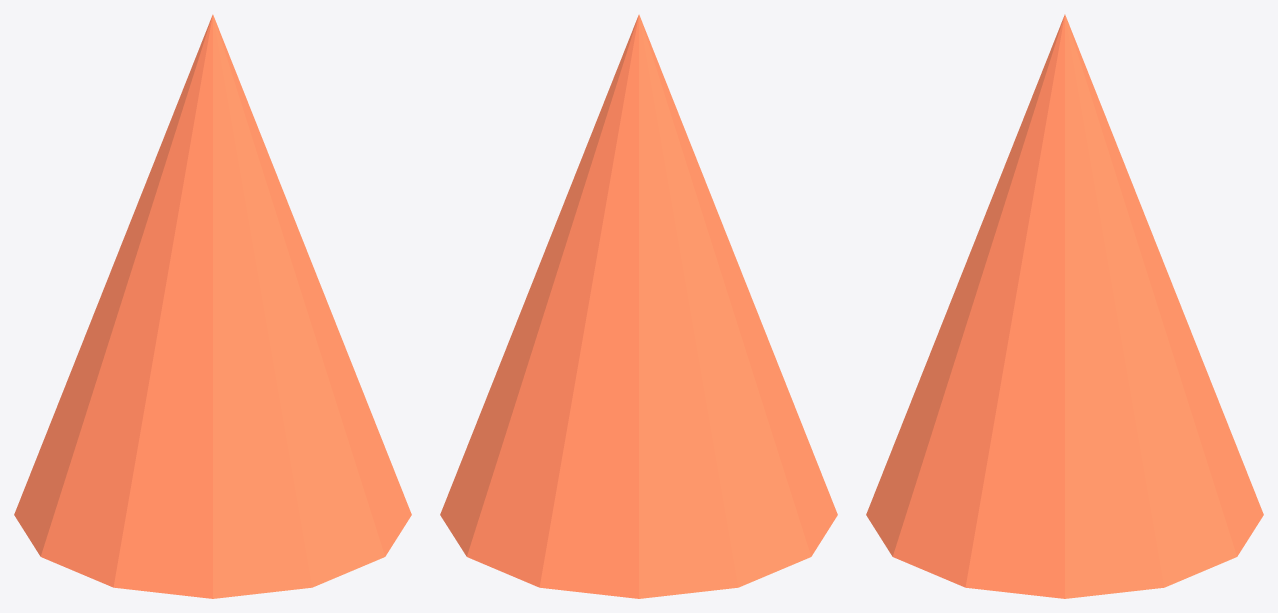
Rendered from s3_feedback_arrow.glb.
3 renders of one model, left to right at view 1: azimuth 30°, elevation 25°; view 2: azimuth 150°, elevation 25°; view 3: azimuth 270°, elevation 25°, orthographic.
Visible parts, largest first — view 1: arrowhead; view 2: arrowhead; view 3: arrowhead.
Part boxes in pixels (<box>): arrowhead: <box>14,14,411,598</box>; arrowhead: <box>440,14,837,598</box>; arrowhead: <box>866,14,1263,598</box>.
Bounding box in the file's own units: 0.18 × 0.25 × 0.18.
